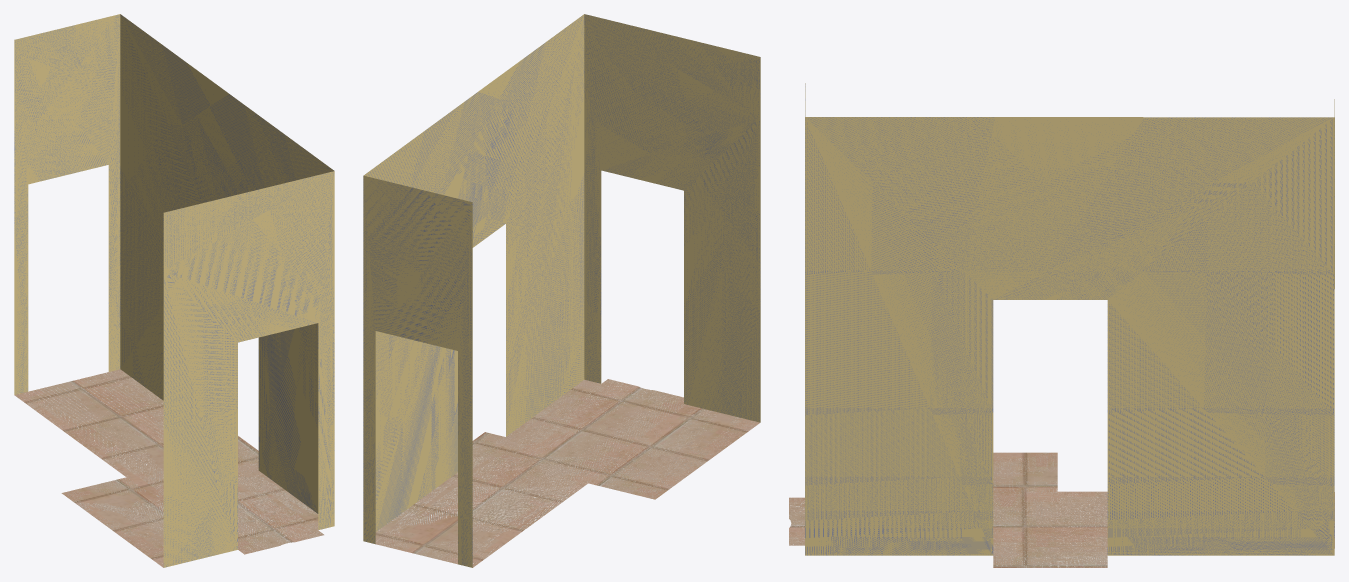
Rendered from COM021.obj.
3 renders of one model, left to right at view 1: azimuth 30°, elevation 25°; view 2: azimuth 150°, elevation 25°; view 3: azimuth 270°, elevation 25°, orthographic. The views are drawn at different scales.
Parts seen in each view (by area): view 1: Mesh1 COM21 Model; view 2: Mesh1 COM21 Model; view 3: Mesh1 COM21 Model.
Part boxes in pixels (x1,y1,x2,y2): Mesh1 COM21 Model: (14,14,334,567); Mesh1 COM21 Model: (363,14,760,567); Mesh1 COM21 Model: (789,83,1334,567).
Size of the model in its own units: 2.03 by 3.6 by 4.06.
4 materials, 2 textured.
